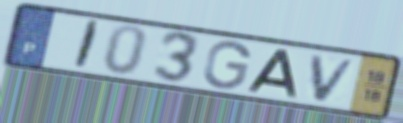0: (97, 23, 152, 78)
3: (151, 29, 202, 85)
A: (244, 47, 300, 101)
G: (200, 40, 254, 92)
I: (71, 18, 104, 72)
V: (309, 53, 360, 105)
